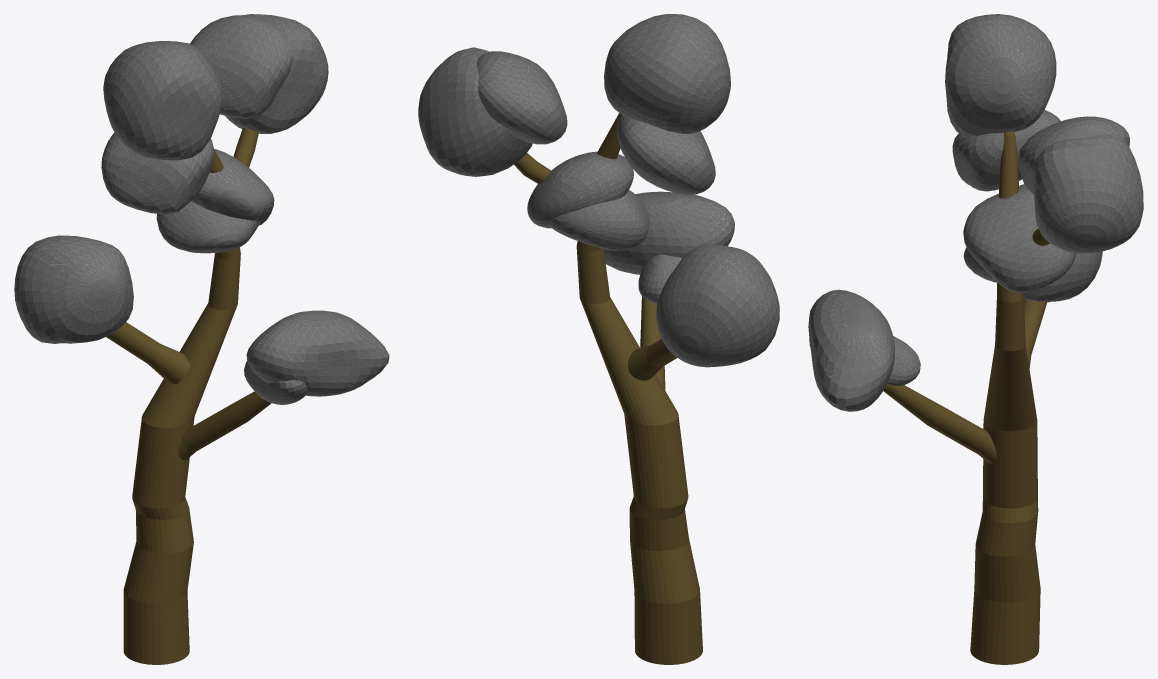
File: arbre_toufu.glb
3 views of the same model, side by side, from view 1: azimuth 30°, elevation 25°; view 2: azimuth 150°, elevation 25°; view 3: azimuth 270°, elevation 25° (orthographic). The views are drawn at different scales.
Visible parts, largest first — view 1: Cylinder; view 2: Cylinder; view 3: Cylinder.
Boxes of the visible parts, x1,y1,x2,y2 form: Cylinder: (14, 14, 389, 664); Cylinder: (418, 14, 779, 664); Cylinder: (808, 14, 1143, 664).
Bounding box in the file's own units: 6.65 × 12.16 × 5.84.
Materials: 2 (1 with a texture image).
